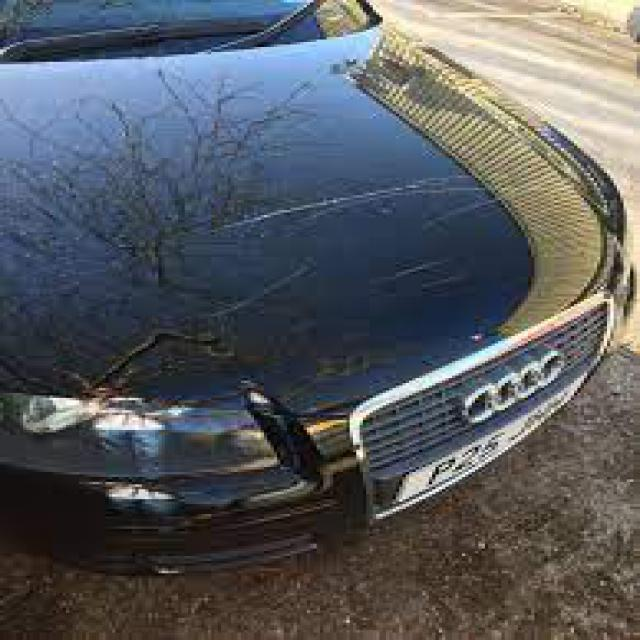bonnet-dent: (0, 104, 607, 452)
front-bumper-dent: (3, 408, 458, 578)
